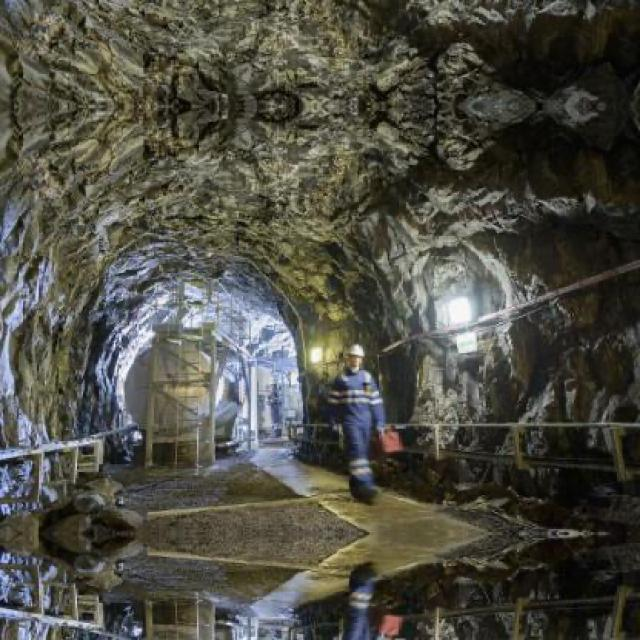con casco: (328, 328, 374, 390)
